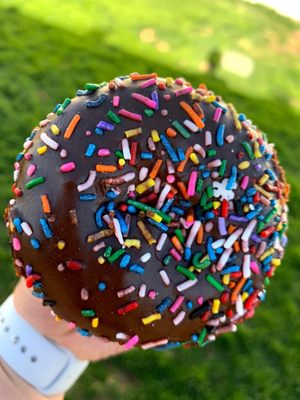salad: (1, 73, 299, 391)
